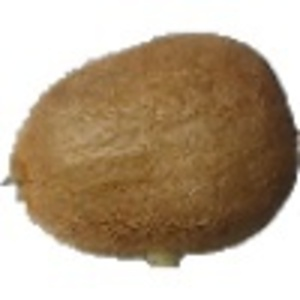kiwi: (5, 31, 300, 272)
